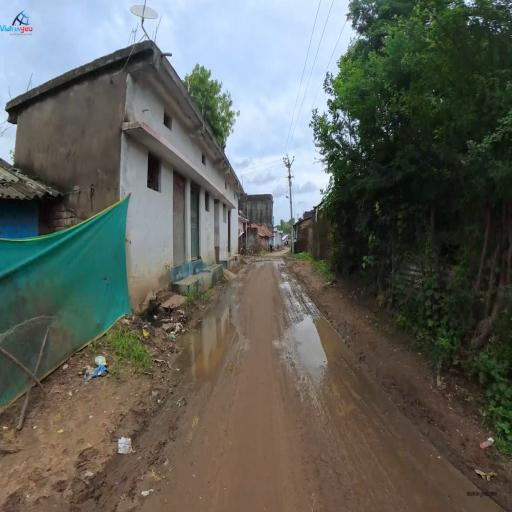drainage_issue: (160, 306, 197, 347)
